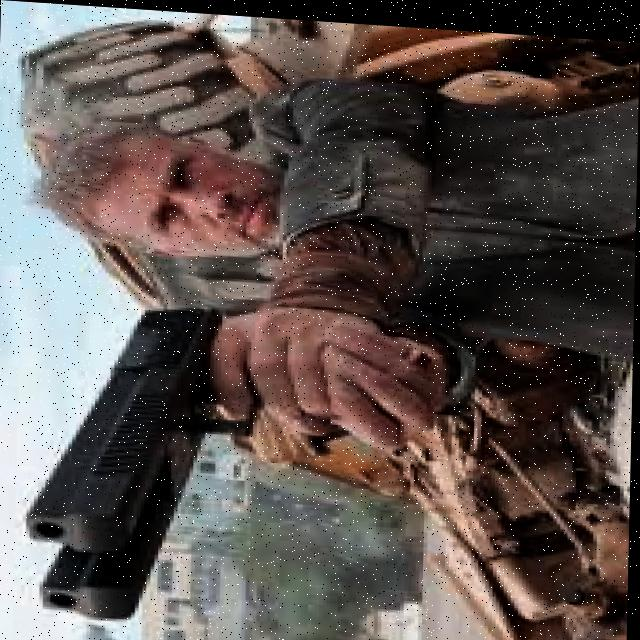pistol: (26, 295, 269, 627)
